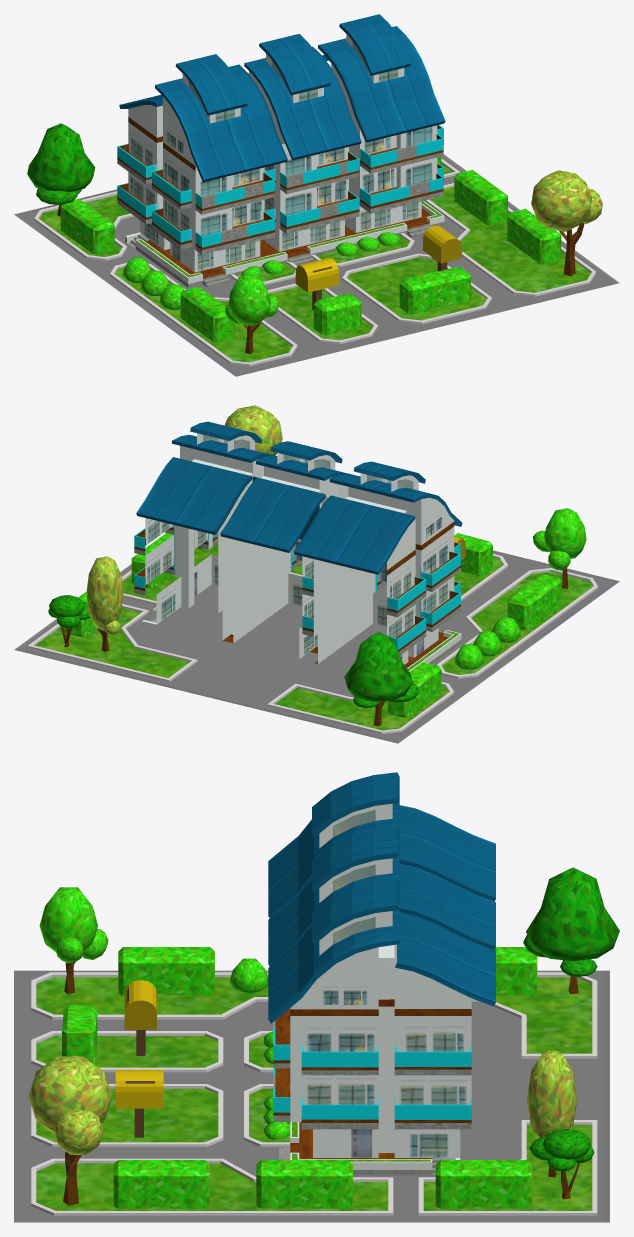
The model's file is Residential _lvl2.fbx.
3 renders of one model, top to bottom at view 1: azimuth 30°, elevation 25°; view 2: azimuth 150°, elevation 25°; view 3: azimuth 270°, elevation 25°, orthographic. The views are drawn at different scales.
Parts seen in each view (by area): view 1: residential 2; view 2: residential 2; view 3: residential 2.
Boxes of the visible parts, bbox=[...] form: residential 2: bbox=[14, 14, 619, 376]; residential 2: bbox=[14, 405, 619, 743]; residential 2: bbox=[14, 772, 619, 1222].
Bounding box in the file's own units: 101 × 46.86 × 102.
